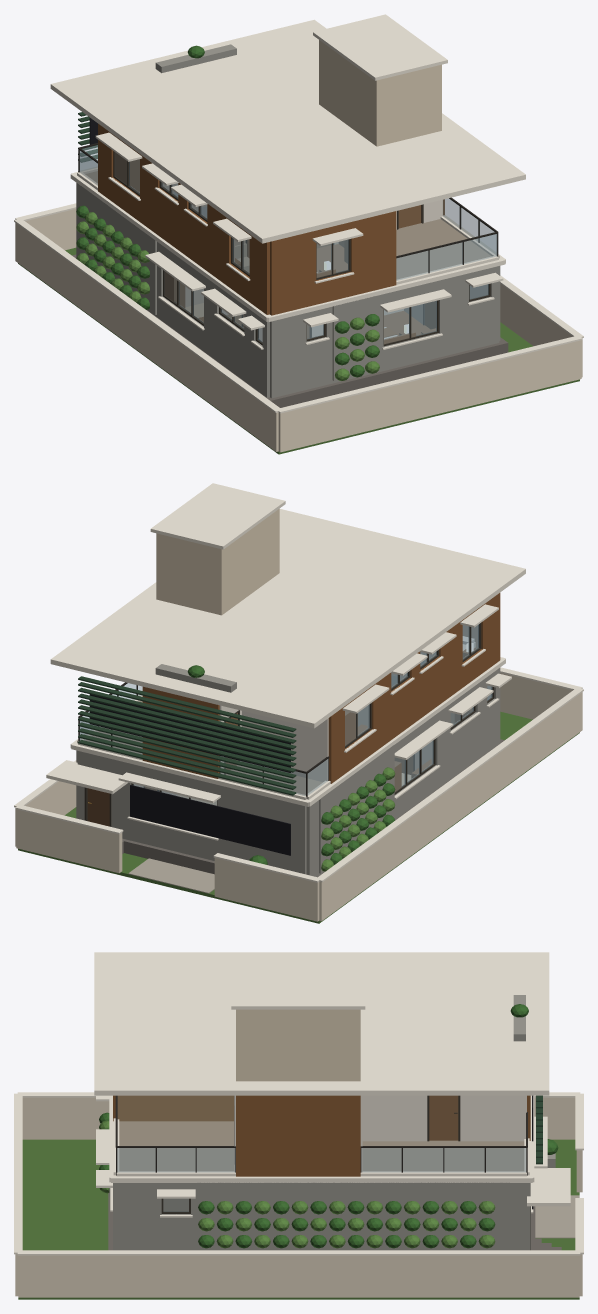
The model's file is house2.glb.
3 views of the same model, one above another, from view 1: azimuth 30°, elevation 25°; view 2: azimuth 150°, elevation 25°; view 3: azimuth 270°, elevation 25° (orthographic). The views are drawn at different scales.
Visible parts, largest first — view 1: roof__concrete_band, site__compound_wall, level_0__structure__board_concrete, level_1__structure__timber_boards, roof__plaster, site__concrete_band, level_0__facade__board_concrete, level_1__structure__concrete_band, level_1__structure__railing_glass, level_1__floors__floor_outdoor, level_0__structure__glass, site__plinth_stone (+16 smaller); view 2: roof__concrete_band, site__compound_wall, level_0__structure__board_concrete, level_1__facade__exterior_accent, level_1__structure__timber_boards, roof__plaster, level_0__facade__glazing_band, site__concrete_band, level_1__structure__concrete_band, level_1__facade__concrete_band, level_0__structure__concrete_band, level_1__structure__paint_circulation (+17 smaller); view 3: roof__concrete_band, site__compound_wall, level_0__facade__board_concrete, site__lawn, level_1__structure__timber_boards, level_1__floors__floor_outdoor, roof__plaster, level_1__structure__railing_glass, level_1__structure__paint_circulation, site__concrete_band, level_0__structure__board_concrete, level_0__facade__foliage (+12 smaller).
Part boxes in pixels (x1,y1,x2,y2): roof__concrete_band: [50, 14, 525, 243]; site__compound_wall: [15, 209, 582, 452]; level_0__structure__board_concrete: [76, 183, 500, 398]; level_1__structure__timber_boards: [98, 123, 444, 315]; roof__plaster: [319, 40, 441, 146]; site__concrete_band: [14, 203, 583, 413]; level_0__facade__board_concrete: [81, 186, 380, 380]; level_1__structure__concrete_band: [72, 132, 505, 321]; level_1__structure__railing_glass: [79, 145, 496, 280]; level_1__floors__floor_outdoor: [85, 171, 491, 279]; level_0__structure__glass: [165, 272, 488, 343]; site__plinth_stone: [72, 254, 508, 407]; roof__concrete_band: [50, 483, 525, 728]; site__compound_wall: [15, 673, 582, 921]; level_0__structure__board_concrete: [76, 668, 500, 876]; level_1__facade__exterior_accent: [78, 676, 296, 795]; level_1__structure__timber_boards: [142, 593, 500, 783]; roof__plaster: [156, 509, 279, 615]; level_0__facade__glazing_band: [130, 785, 290, 855]; site__concrete_band: [14, 667, 583, 882]; level_1__structure__concrete_band: [71, 604, 505, 806]; level_1__facade__concrete_band: [70, 657, 505, 806]; level_0__structure__concrete_band: [118, 673, 511, 802]; level_1__structure__paint_circulation: [219, 705, 328, 781]; roof__concrete_band: [94, 952, 549, 1095]; site__compound_wall: [15, 1097, 582, 1297]; level_0__facade__board_concrete: [109, 1153, 555, 1250]; site__lawn: [18, 1139, 579, 1299]; level_1__structure__timber_boards: [113, 1095, 530, 1176]; level_1__floors__floor_outdoor: [119, 1121, 524, 1171]; roof__plaster: [236, 1009, 360, 1081]; level_1__structure__railing_glass: [117, 1148, 526, 1172]; level_1__structure__paint_circulation: [234, 1095, 526, 1172]; site__concrete_band: [14, 1092, 583, 1255]; level_0__structure__board_concrete: [113, 1183, 530, 1250]; level_0__facade__foliage: [99, 1112, 558, 1248].
Bounding box in the file's own units: 12.28 × 9.77 × 18.28.
